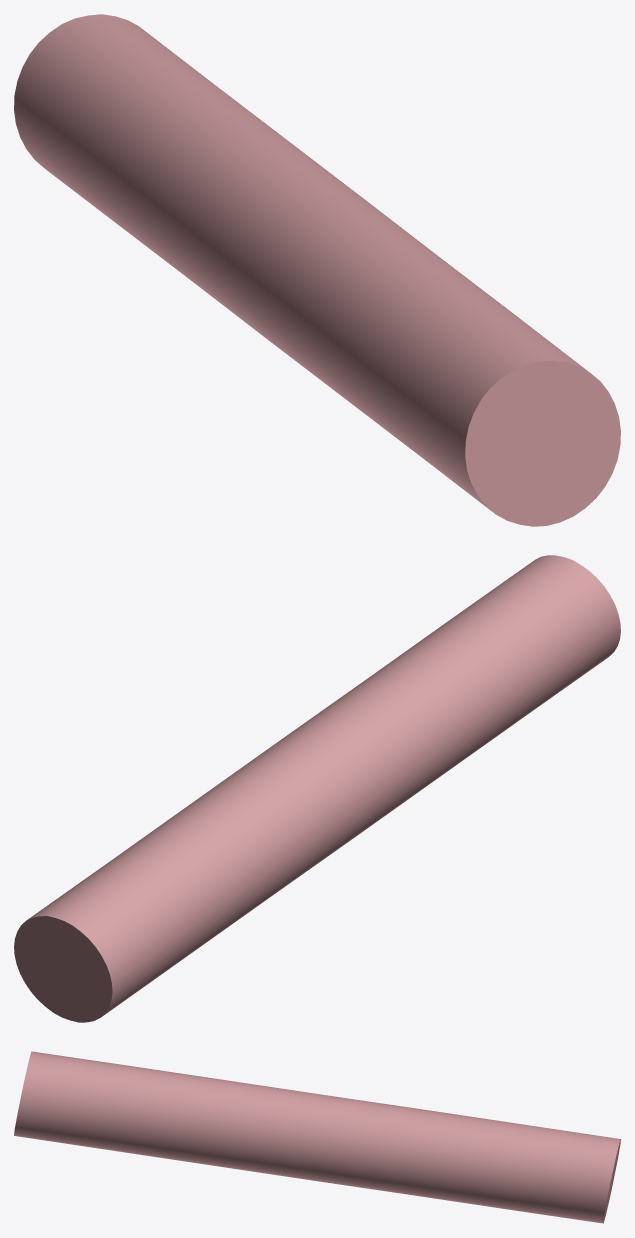
Rendered from fma54756-l_mm2107.glb.
3 renders of one model, top to bottom at view 1: azimuth 30°, elevation 25°; view 2: azimuth 150°, elevation 25°; view 3: azimuth 270°, elevation 25°, orthographic. The views are drawn at different scales.
Visible parts, largest first — view 1: FMA54756-L_MM2107; view 2: FMA54756-L_MM2107; view 3: FMA54756-L_MM2107.
Boxes of the visible parts, left/top/right/bottom form: FMA54756-L_MM2107: left=14, top=14, right=620, bottom=526; FMA54756-L_MM2107: left=14, top=555, right=620, bottom=1022; FMA54756-L_MM2107: left=14, top=1051, right=620, bottom=1223.
Size of the model in its own units: 0.0056 by 0.0051 by 0.0211.
